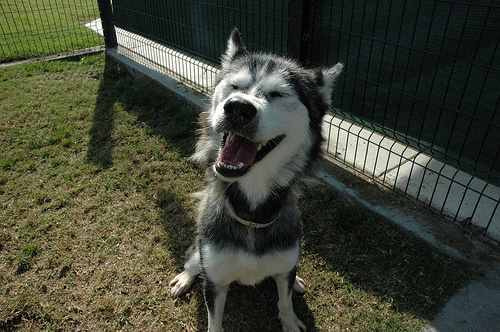dog: (167, 26, 345, 331)
